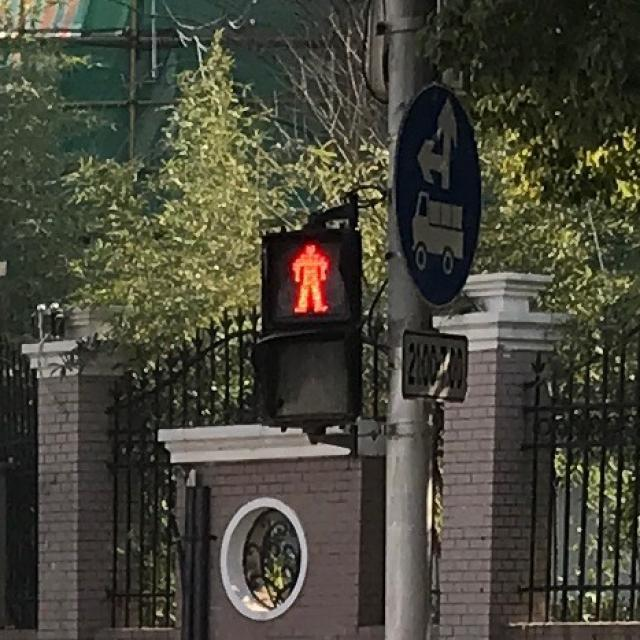red-crossing: (263, 236, 348, 321)
